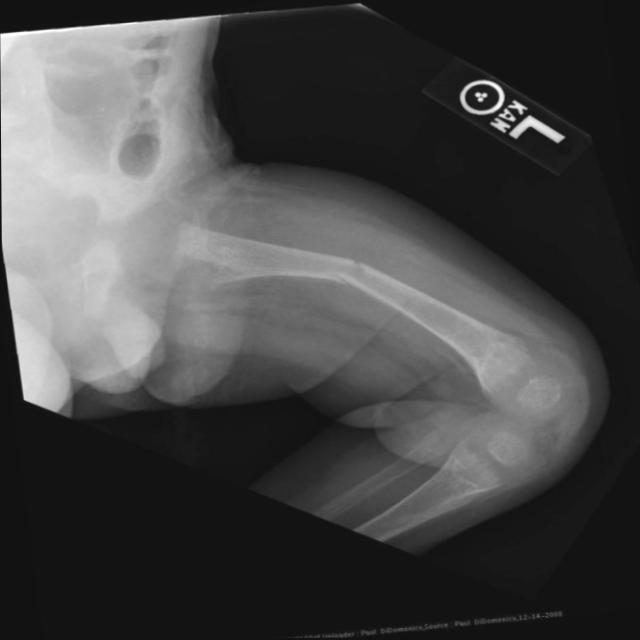Transverse Displaced: (312, 239, 398, 310)
